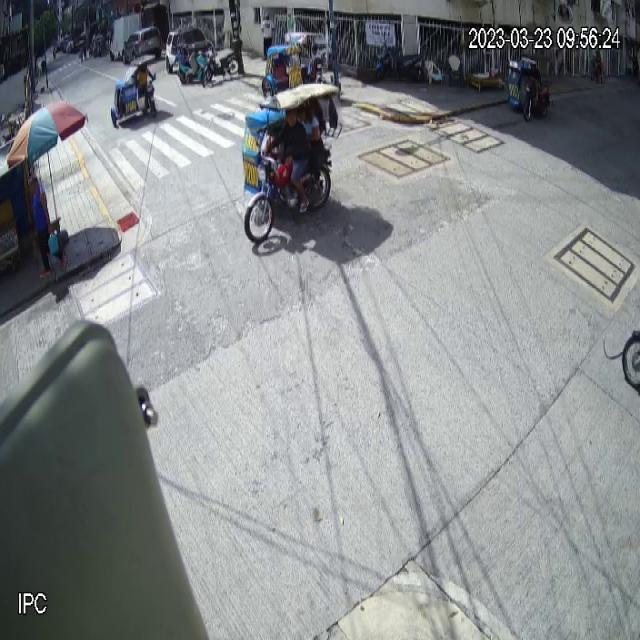Tricycle: (241, 81, 340, 244), (111, 54, 158, 134)
